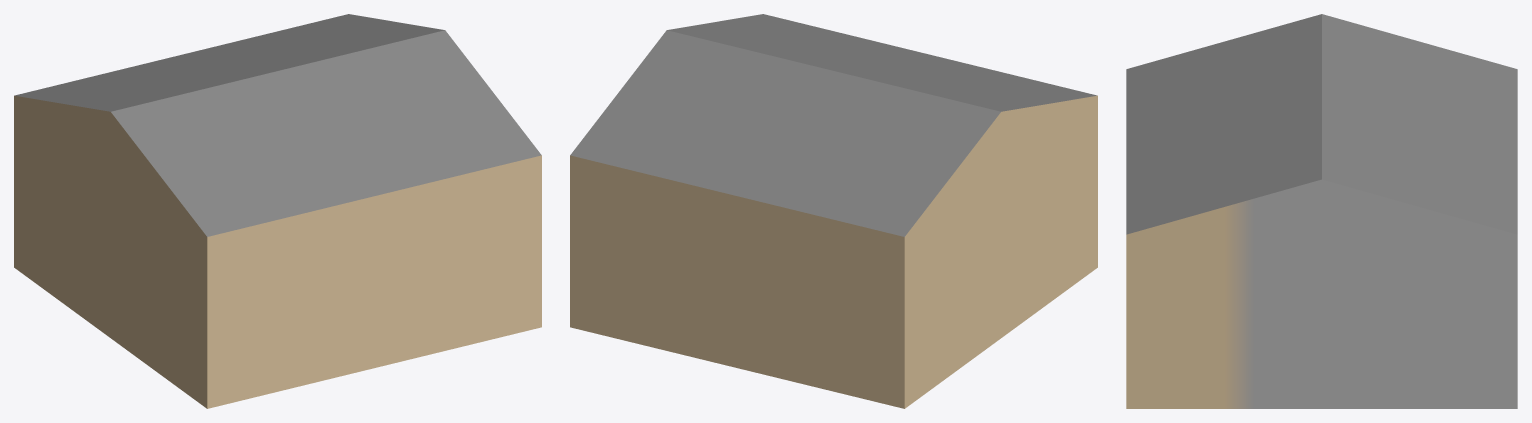
Rendered from Bildings Backgrounds 1.fbx.
3 views of the same model, side by side, from view 1: azimuth 30°, elevation 25°; view 2: azimuth 150°, elevation 25°; view 3: azimuth 270°, elevation 25° (orthographic).
Visible parts, largest first — view 1: Bildings Backgrounds 1; view 2: Bildings Backgrounds 1; view 3: Bildings Backgrounds 1.
Boxes of the visible parts, x1=… form: Bildings Backgrounds 1: x1=14, y1=14, x2=541, y2=408; Bildings Backgrounds 1: x1=570, y1=14, x2=1097, y2=408; Bildings Backgrounds 1: x1=1126, y1=14, x2=1517, y2=408.
Bounding box in the file's own units: 5344 × 3456 × 5344.
